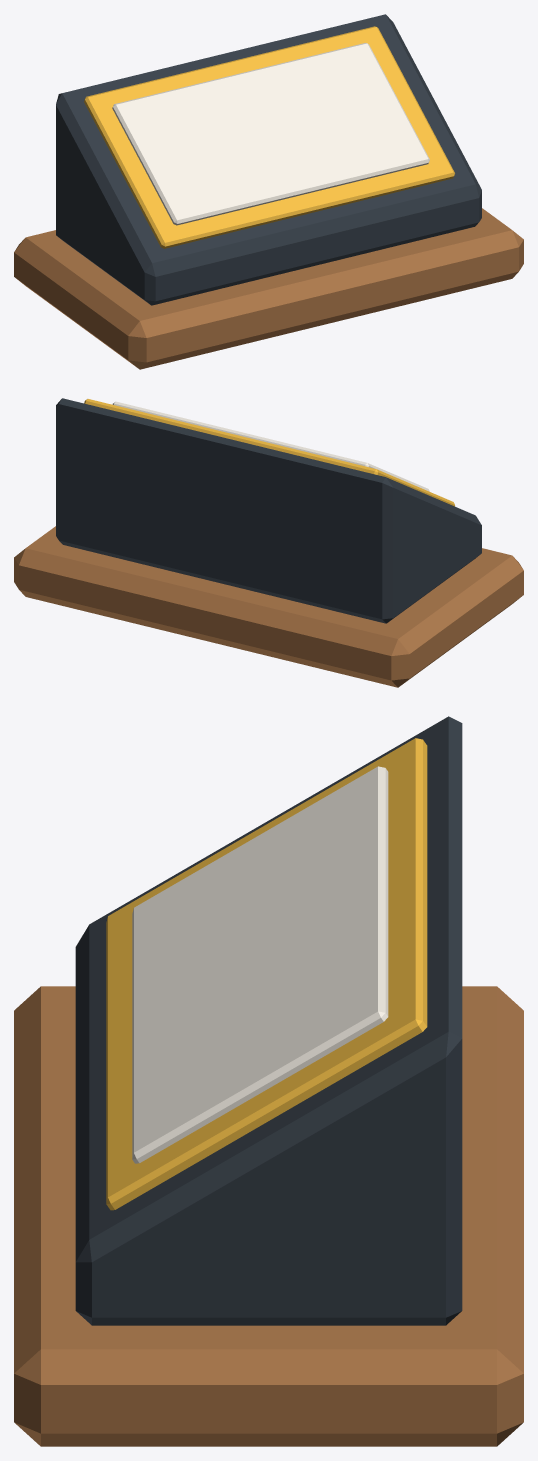
Rendered from Gallery_LabelPlaque.fbx.
3 renders of one model, top to bottom at view 1: azimuth 30°, elevation 25°; view 2: azimuth 150°, elevation 25°; view 3: azimuth 270°, elevation 25°, orthographic. The views are drawn at different scales.
Visible parts, largest first — view 1: FrameDark, Cream_SmoothPlastic, Wood, Amber_Metal; view 2: FrameDark, Wood, Amber_Metal, Cream_SmoothPlastic; view 3: Wood, FrameDark, Cream_SmoothPlastic, Amber_Metal.
Part boxes in pixels (box(x1,y1,x2,y2)): FrameDark: box(56, 14, 481, 305); Cream_SmoothPlastic: box(112, 43, 429, 225); Wood: box(14, 208, 523, 369); Amber_Metal: box(84, 26, 454, 248); FrameDark: box(56, 398, 481, 623); Wood: box(14, 526, 523, 687); Amber_Metal: box(84, 399, 454, 506); Cream_SmoothPlastic: box(112, 401, 429, 491); Wood: box(14, 986, 523, 1446); FrameDark: box(75, 716, 462, 1325); Cream_SmoothPlastic: box(132, 766, 388, 1163); Amber_Metal: box(106, 738, 427, 1210).
Bounding box in the file's own units: 1.7 × 0.8038 × 0.95.
